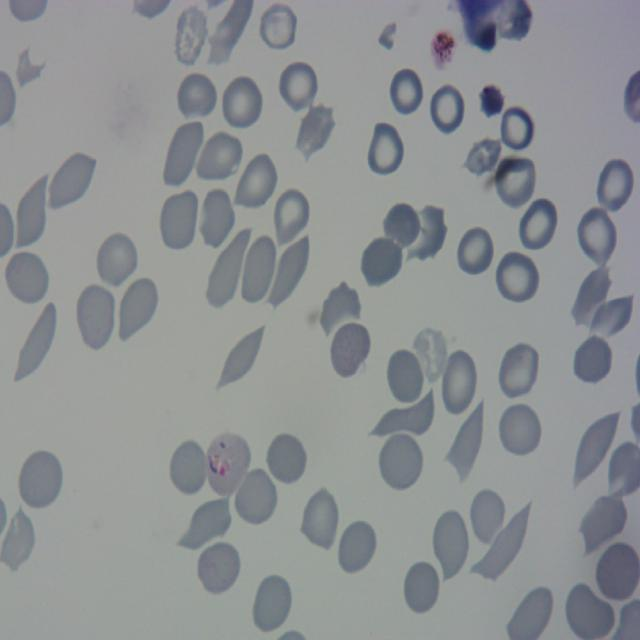leukocyte: (477, 504, 531, 582), (572, 412, 621, 492), (214, 322, 268, 392), (204, 226, 250, 308), (14, 303, 58, 384), (446, 398, 485, 486), (372, 386, 437, 438), (268, 235, 312, 310), (162, 116, 205, 192), (580, 492, 630, 556), (16, 448, 65, 512), (376, 430, 425, 493), (117, 274, 161, 344), (565, 580, 616, 640), (48, 151, 98, 212), (438, 347, 480, 419), (431, 506, 470, 581), (74, 284, 117, 352), (158, 187, 202, 253), (594, 541, 640, 604), (14, 173, 49, 254), (492, 152, 539, 212), (493, 248, 540, 308), (574, 204, 618, 268), (300, 485, 342, 552), (94, 230, 140, 291), (250, 572, 294, 634), (497, 341, 541, 402), (4, 249, 51, 306), (497, 401, 543, 459), (219, 74, 265, 132), (328, 320, 372, 380), (516, 195, 560, 254), (318, 283, 362, 342), (242, 234, 278, 305), (168, 438, 210, 498), (364, 120, 406, 180), (295, 102, 337, 162), (405, 201, 447, 261), (172, 3, 210, 69), (336, 518, 379, 576), (571, 263, 611, 325), (270, 185, 312, 244), (198, 185, 236, 250), (234, 468, 278, 524), (594, 156, 635, 216), (196, 542, 243, 594), (232, 154, 278, 207), (384, 346, 425, 405), (277, 59, 320, 115), (467, 486, 507, 546), (359, 236, 404, 289), (408, 326, 448, 385), (265, 432, 308, 486), (402, 559, 442, 616), (0, 508, 35, 573), (454, 224, 496, 278), (572, 333, 614, 387), (176, 70, 219, 122), (258, 0, 298, 54), (186, 500, 232, 546), (590, 291, 636, 337), (381, 201, 423, 251), (198, 132, 242, 178), (429, 83, 465, 134), (383, 67, 422, 114), (499, 105, 535, 152), (462, 136, 505, 175), (478, 83, 504, 119)
red blood cell: (202, 429, 252, 500)
